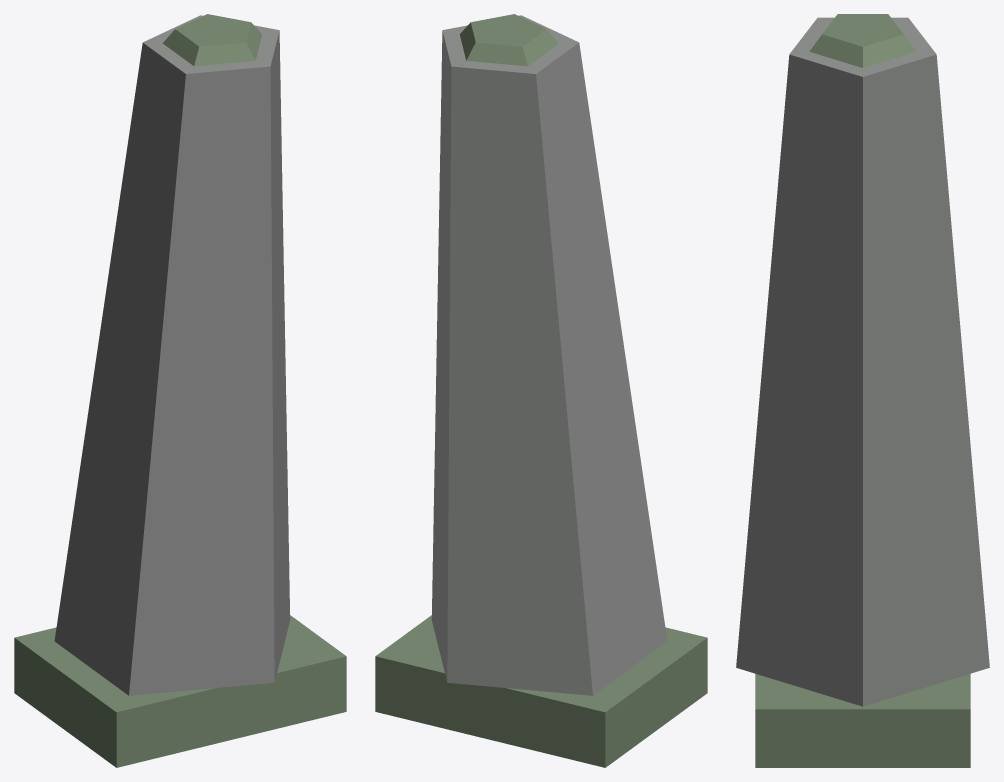
Rendered from standing_stone.glb.
The picture shows the model from 3 angles, left to right: view 1: azimuth 30°, elevation 25°; view 2: azimuth 150°, elevation 25°; view 3: azimuth 270°, elevation 25°; orthographic projection. The views are drawn at different scales.
Visible parts, largest first — view 1: standing_stone; view 2: standing_stone; view 3: standing_stone.
Boxes of the visible parts, x1,y1,x2,y2 form: standing_stone: [14, 14, 346, 767]; standing_stone: [375, 14, 707, 767]; standing_stone: [736, 14, 989, 767].
Size of the model in its own units: 1.3 by 3.58 by 1.18.
